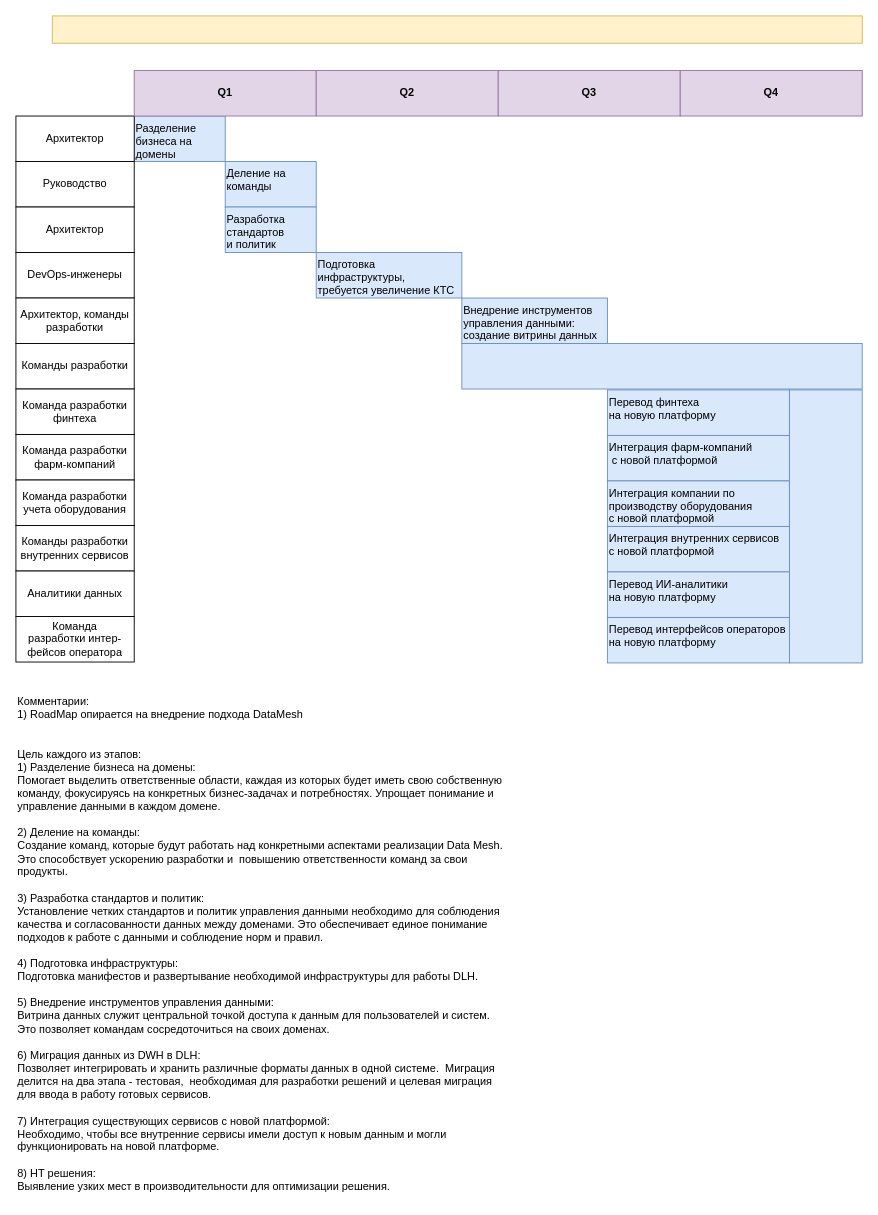
Some shapes in this 878 by 1215 pixel diagram are drawn without their labels. The shapes that lost their labels are listed below. From the top down, each one's centre as x and y in pixels, then its label:
At [456,29]: "RoadMap компании «Будущее 2.0»".
At [661,366]: "Миграция данных из DWH в DLH".
At [825,526]: "НТ решения".
